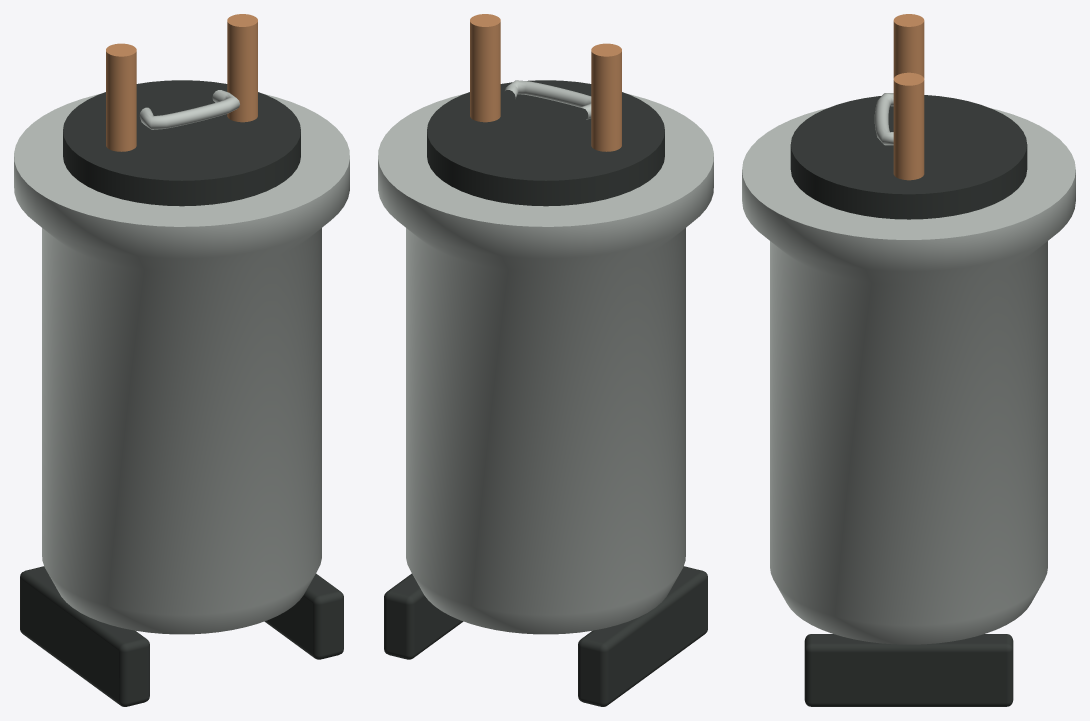
Rendered from spacecraft-thermal-test-chamber-cold-trap-vessel-4ffa17bf__32053.glb.
3 views of the same model, side by side, from view 1: azimuth 30°, elevation 25°; view 2: azimuth 150°, elevation 25°; view 3: azimuth 270°, elevation 25° (orthographic).
Visible parts, largest first — view 1: cold-trap-vessel; view 2: cold-trap-vessel; view 3: cold-trap-vessel.
Boxes of the visible parts, bbox=[...] form: cold-trap-vessel: bbox=[14, 14, 349, 706]; cold-trap-vessel: bbox=[378, 14, 713, 706]; cold-trap-vessel: bbox=[742, 14, 1075, 706].
Bounding box in the file's own units: 0.48 × 0.96 × 0.48.
